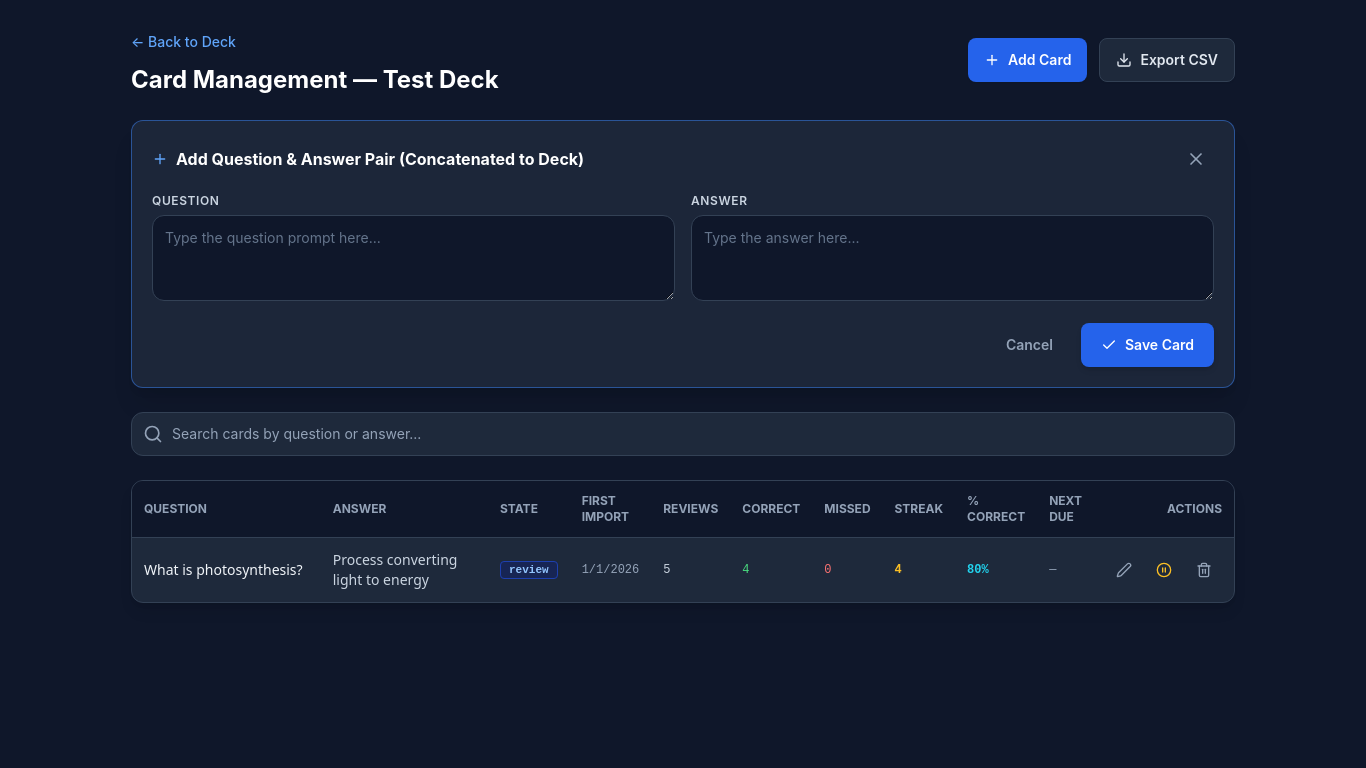
CardManagementView (MGT-001..MGT-011) › MGT-010: Rejects duplicate question and answer when manually adding a card
This screenshot has width=1366, height=768.
Type "What is photosynthesis?" into the text box named "card question" at (414, 258), box [152,215,675,301]
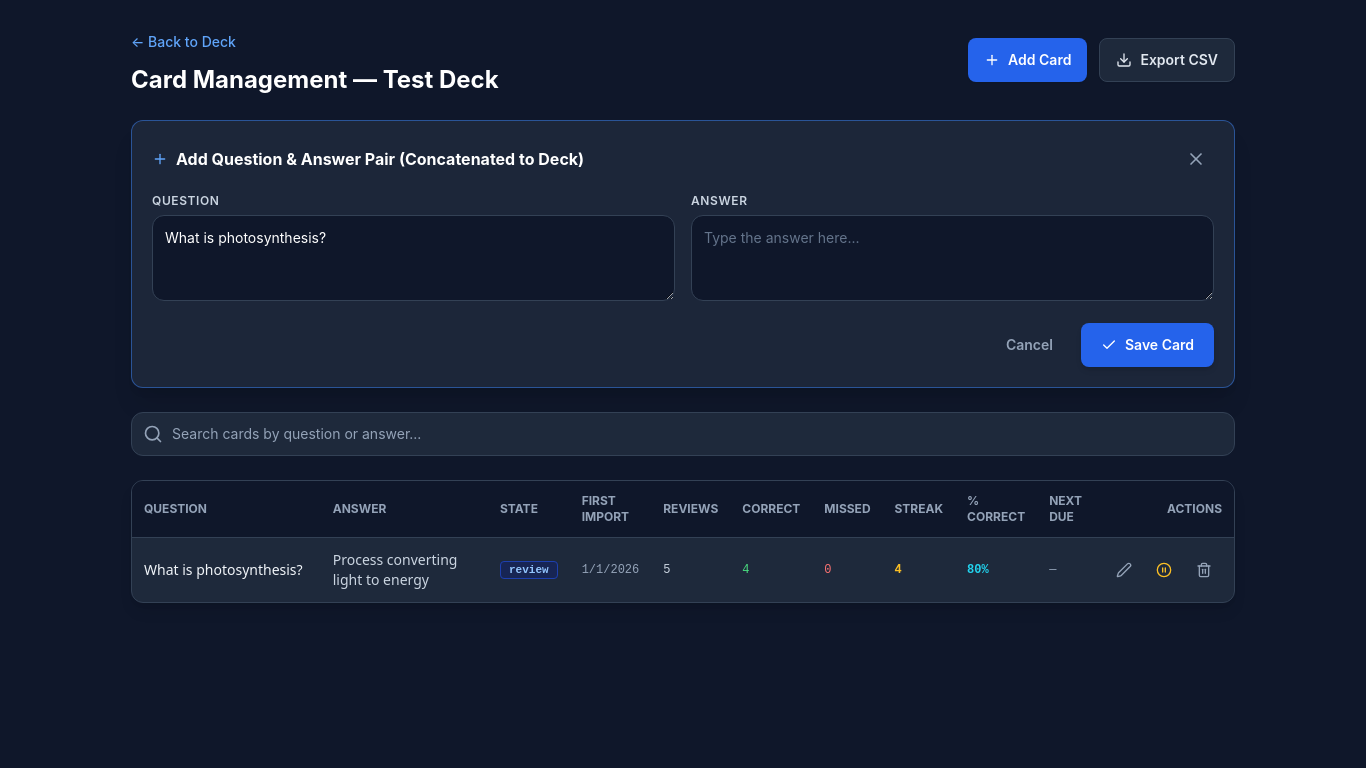
Type "Process converting light to energy" into the text box named "card answer" at (952, 258), box [691,215,1214,301]
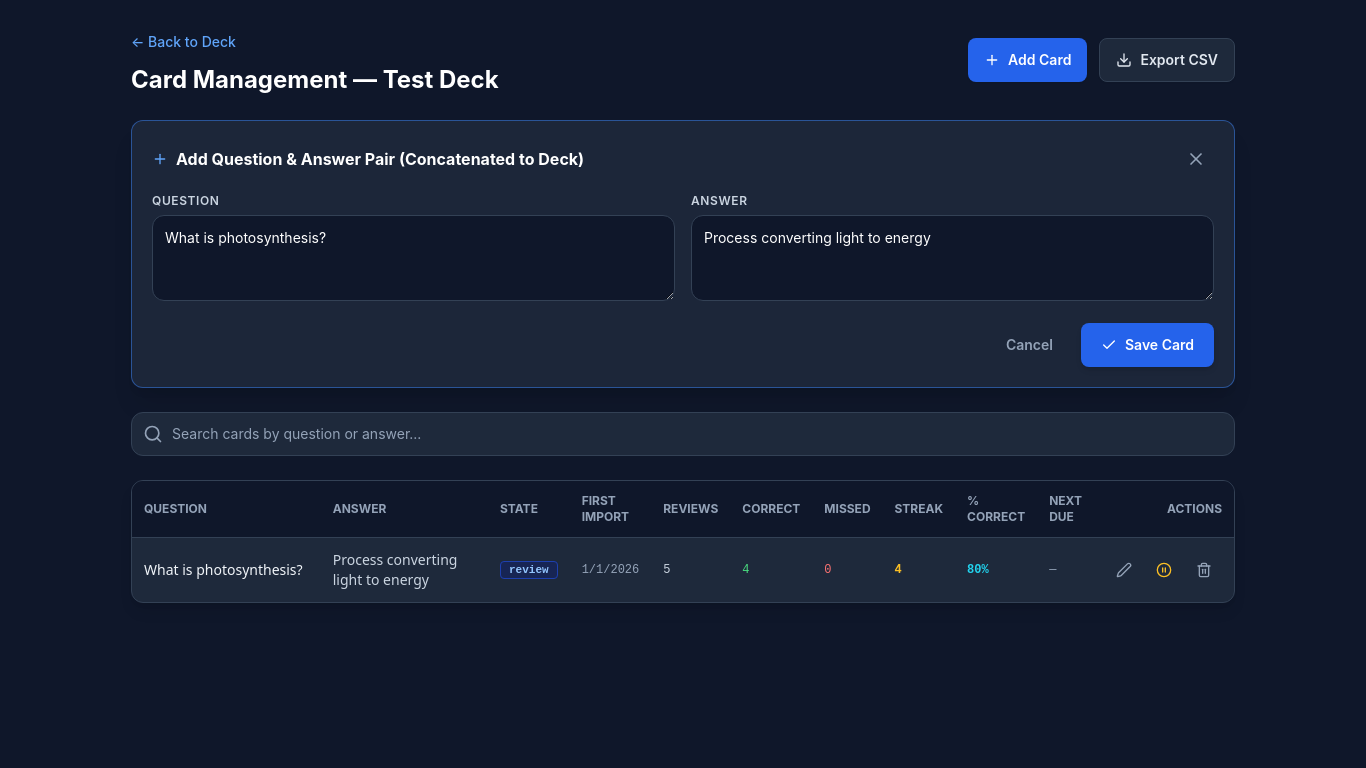
Click the button "Save Card" at (1148, 345), box [1081,323,1214,367]
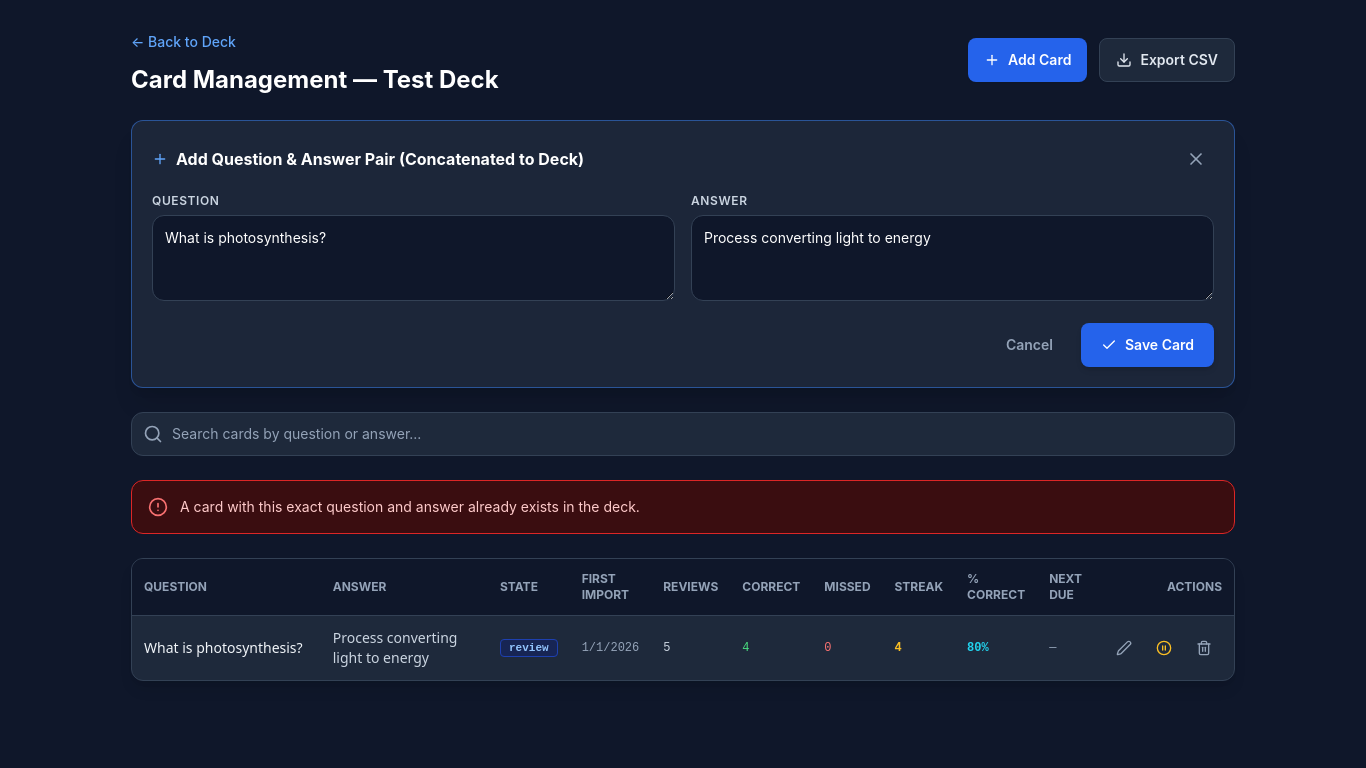
Expected: the text "already exists in the deck" is shown, [180,498,640,515]
